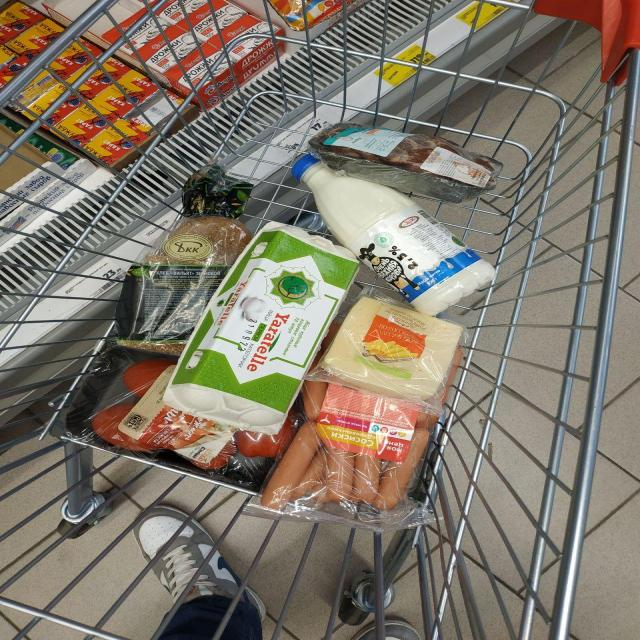Bread: (115, 165, 252, 354)
Cheese: (308, 298, 463, 414)
Eggs: (165, 222, 358, 434)
Meat: (308, 122, 502, 202)
Milk: (292, 155, 495, 315)
Sausages: (247, 381, 437, 531)
Tomatoes: (93, 402, 158, 451), (235, 418, 295, 457), (123, 359, 177, 398), (190, 440, 237, 470)
